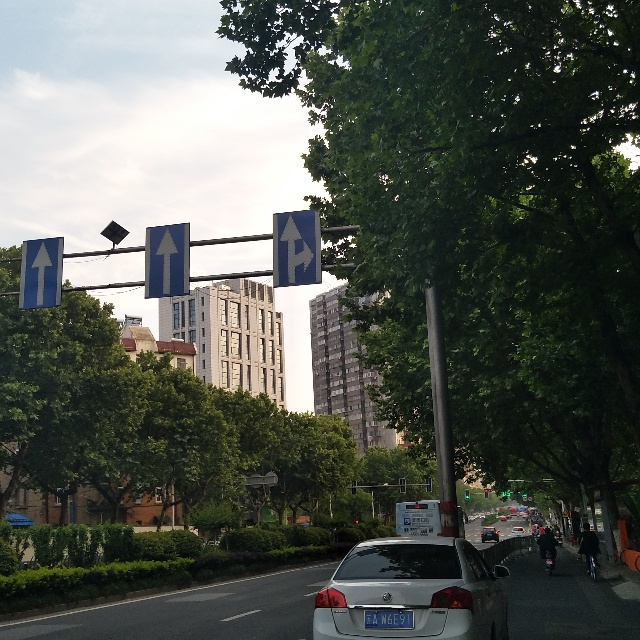straight: (22, 237, 58, 309), (147, 225, 181, 301)
